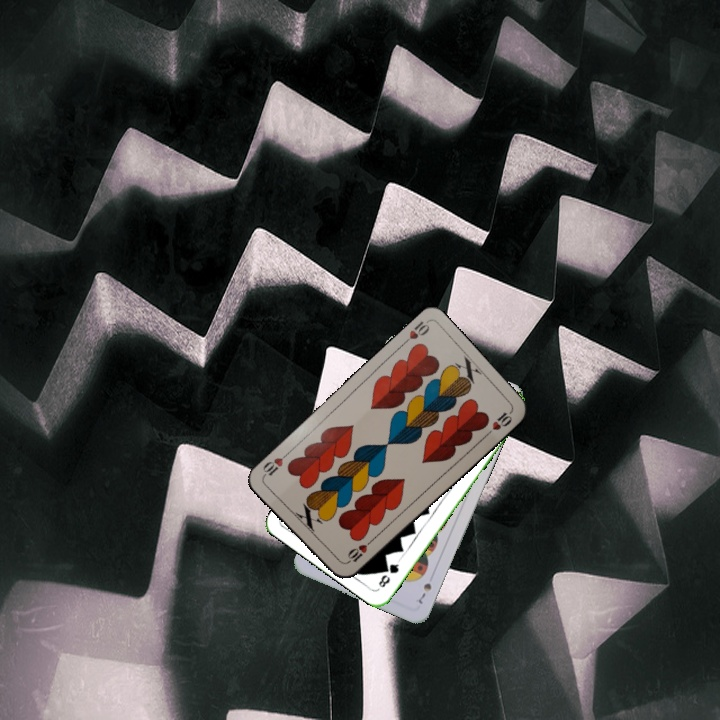G8: (374, 556, 403, 590)
H10: (397, 317, 432, 349), (342, 536, 375, 567)
S7: (414, 579, 434, 607)
